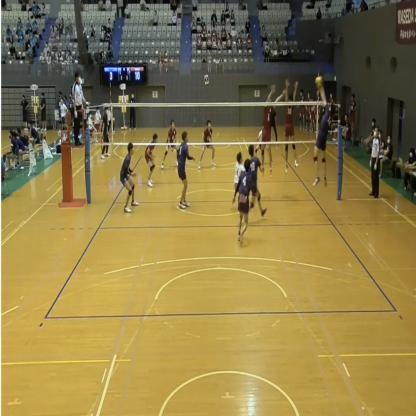spike: (311, 71, 336, 192)
